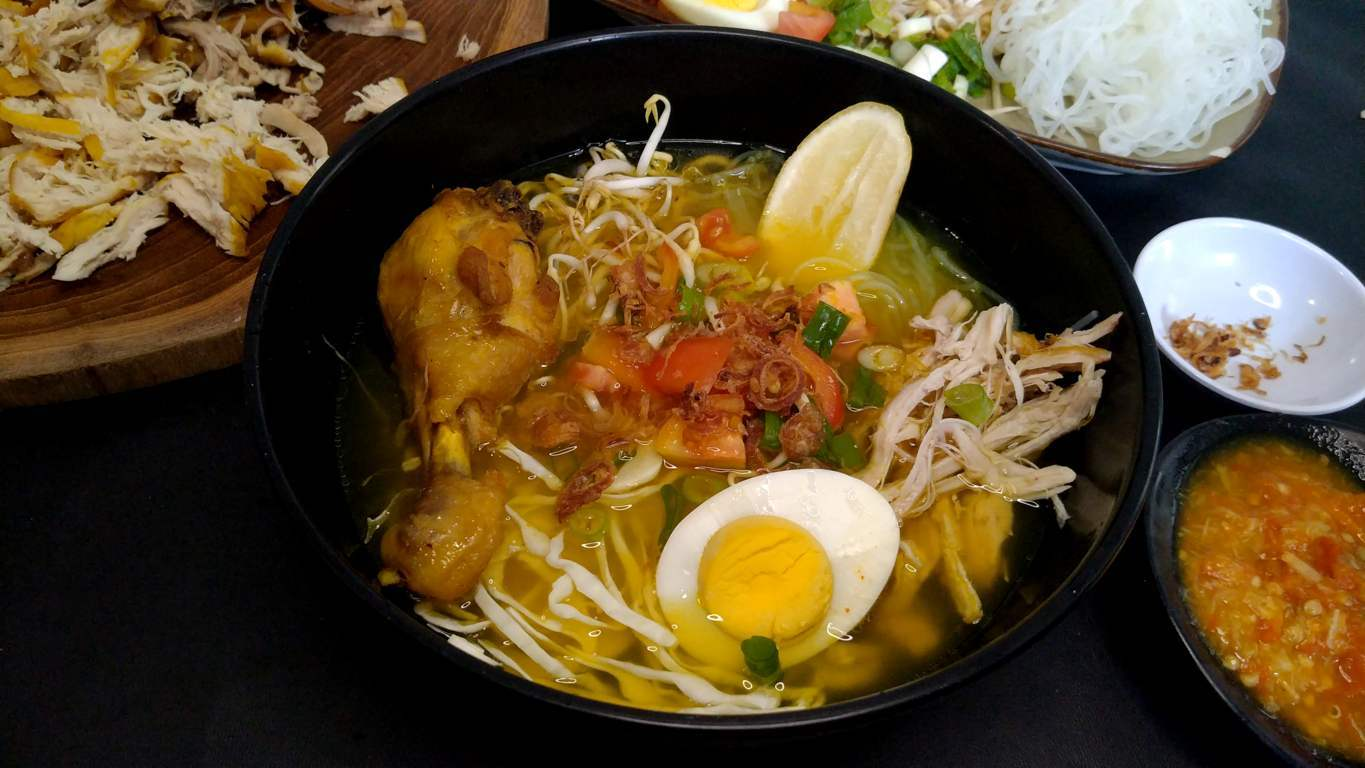soto: (243, 47, 1178, 730)
